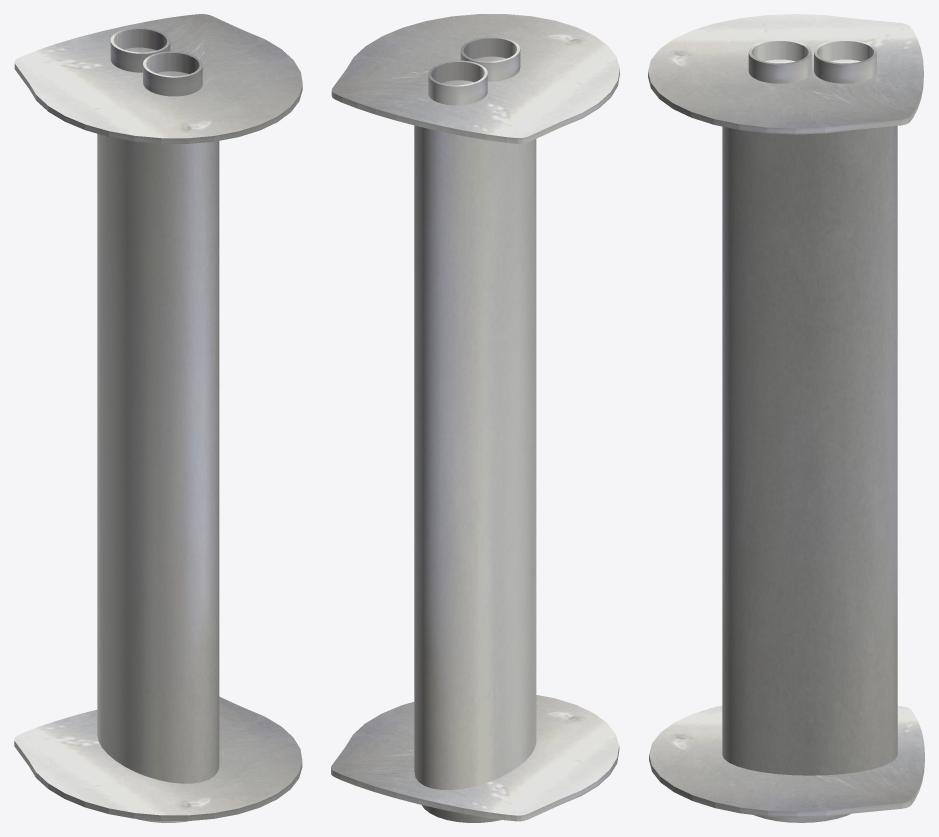
Rendered from sail.obj.
3 views of the same model, side by side, from view 1: azimuth 30°, elevation 25°; view 2: azimuth 150°, elevation 25°; view 3: azimuth 270°, elevation 25° (orthographic).
Visible parts, largest first — view 1: Body, top, bottom, Fan1, Fan2; view 2: Body, top, bottom, Fan2, Fan1, support; view 3: Body, top, bottom, Fan1, Fan2.
Part boxes in pixels (box(x1,y1,x2,y2)): Body: box(97, 133, 219, 783); top: box(14, 14, 302, 143); bottom: box(14, 696, 302, 821); Fan1: box(143, 51, 202, 96); Fan2: box(110, 28, 170, 72); Body: box(414, 125, 536, 789); top: box(331, 14, 619, 143); bottom: box(331, 695, 619, 821); Fan2: box(428, 60, 487, 105); Fan1: box(460, 37, 520, 81); support: box(422, 805, 501, 822); Body: box(722, 126, 897, 775); top: box(648, 14, 923, 134); bottom: box(649, 705, 924, 817); Fan1: box(748, 39, 811, 83); Fan2: box(814, 39, 876, 83).
Size of the model in its own units: 10.86 by 32.9 by 11.07.
Materials: 1 (1 with a texture image).
